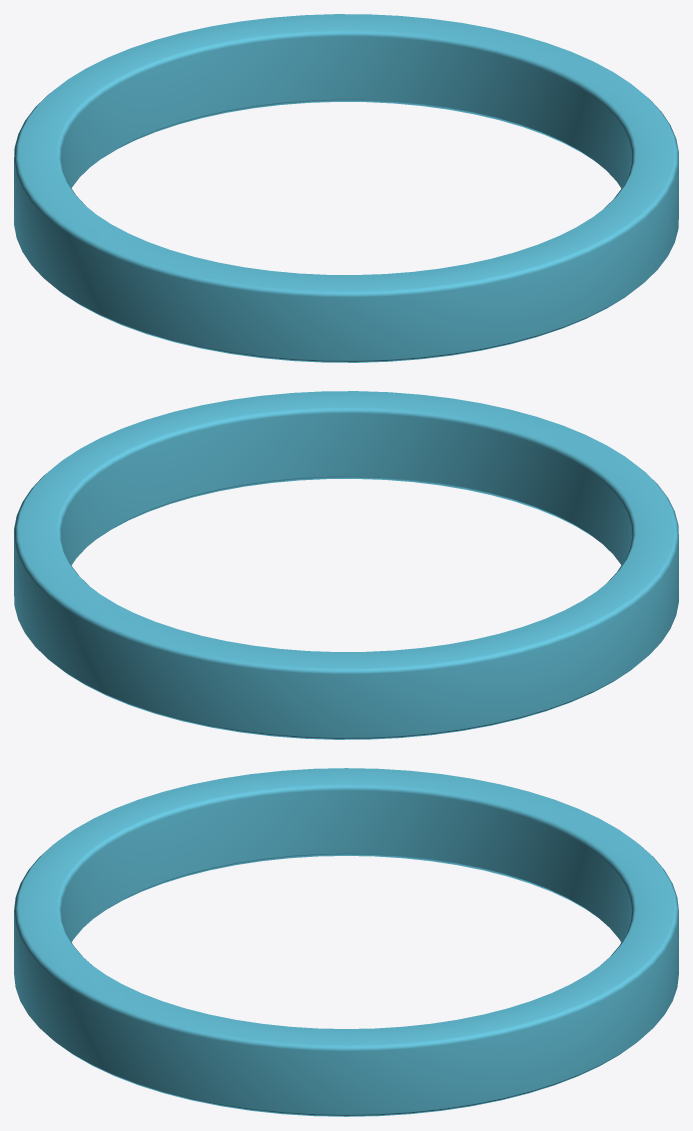
3 renders of one model, top to bottom at view 1: azimuth 30°, elevation 25°; view 2: azimuth 150°, elevation 25°; view 3: azimuth 270°, elevation 25°, orthographic.
Parts seen in each view (by area): view 1: seal_body; view 2: seal_body; view 3: seal_body.
Boxes of the visible parts, left/top/right/bottom form: seal_body: left=14, top=14, right=678, bottom=362; seal_body: left=14, top=391, right=678, bottom=739; seal_body: left=14, top=768, right=678, bottom=1116.
Bounding box in the file's own units: 0.1333 × 0.0159 × 0.1333.
